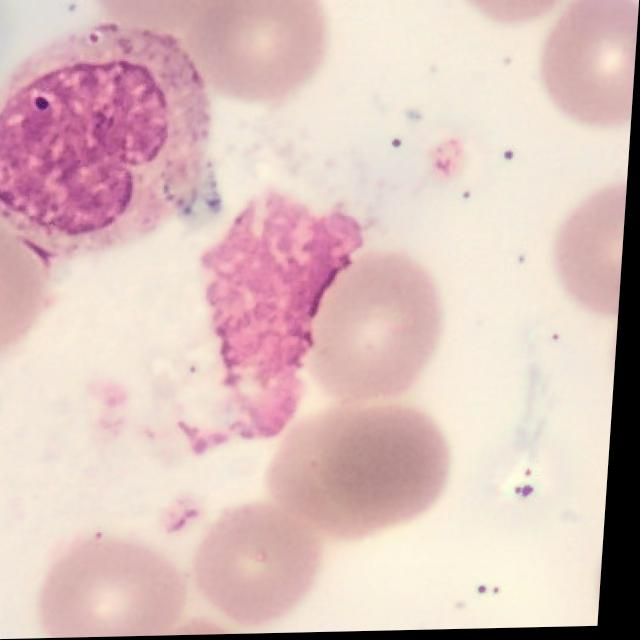Metamielocito: (0, 23, 216, 269)
